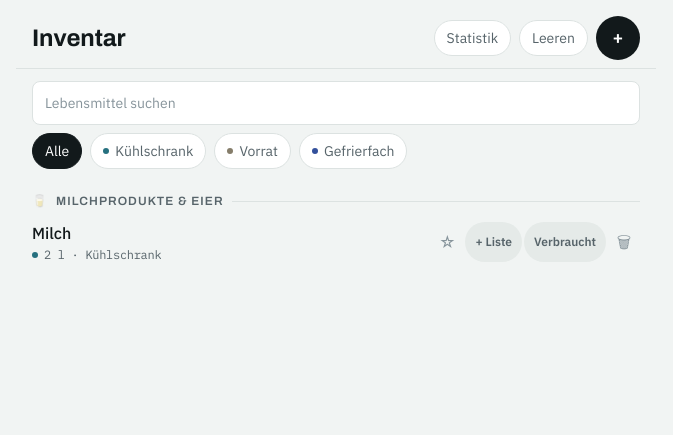
Test: Inventory › consuming an item › offers quarter fractions
Click the button "Verbraucht" at (565, 242), box [524,222,606,262]
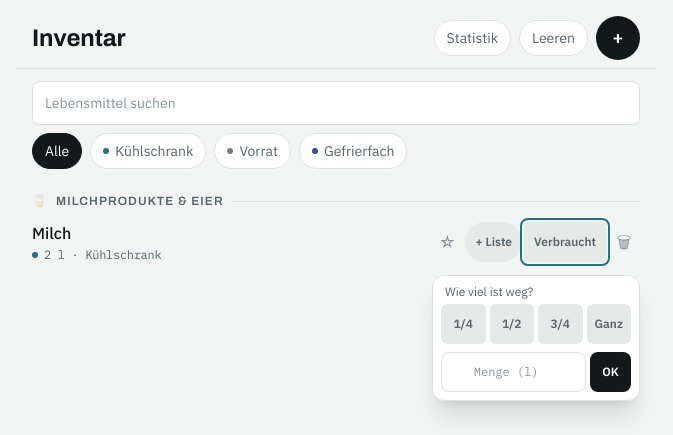
Expected: the text "Wie viel ist weg?" is shown, [445,284,533,299]
Expected: the button "1/4" is shown, [441,304,486,344]
Expected: the button "1/2" is shown, [490,304,534,344]
